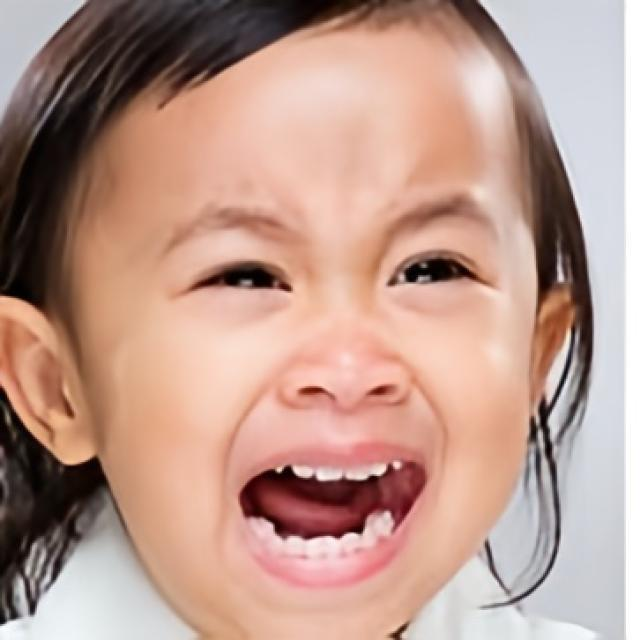sad: (89, 0, 539, 640)
